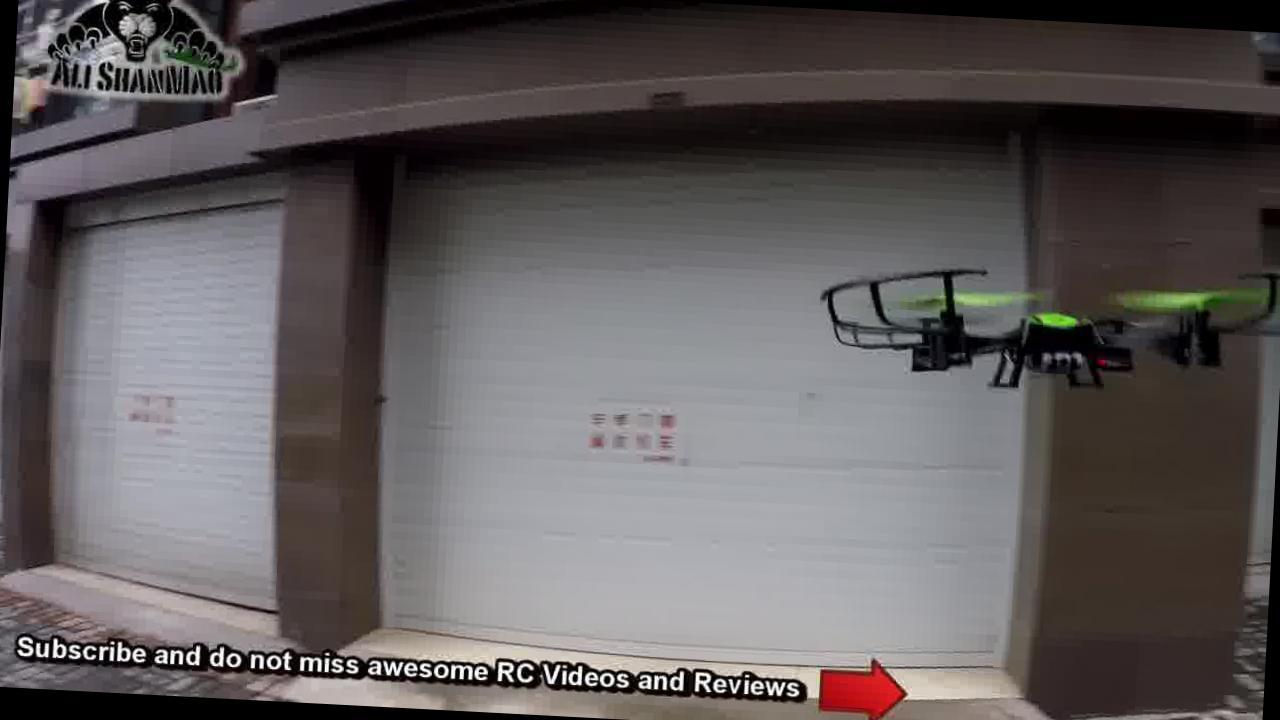drone: (801, 204, 1279, 410)
